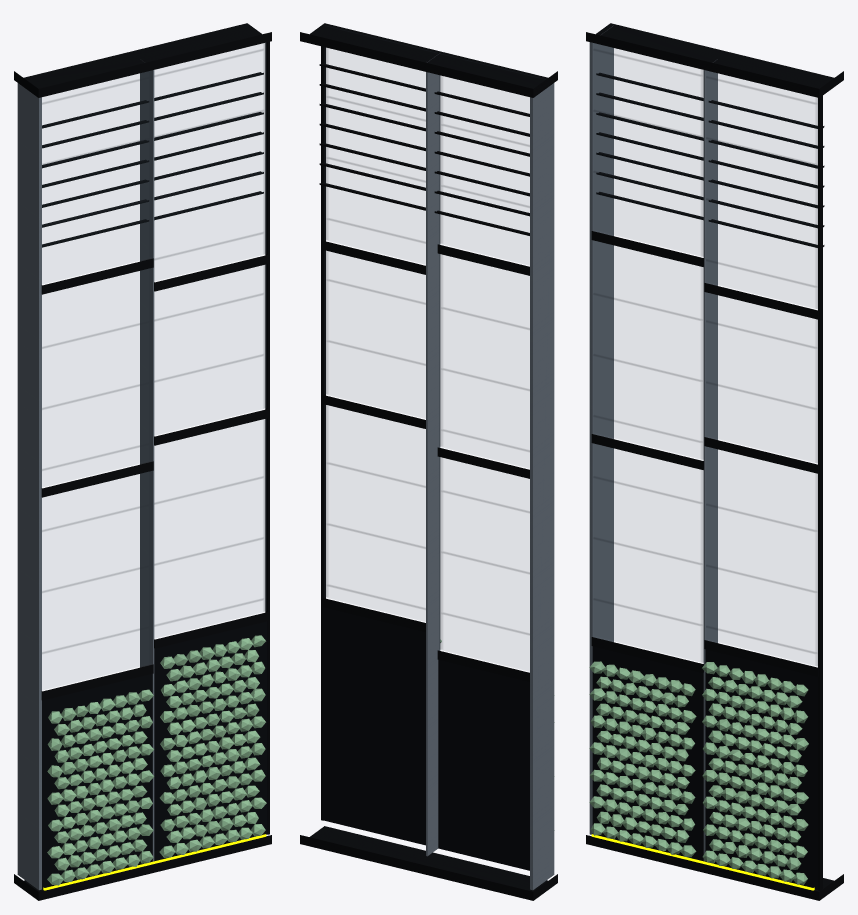
3 renders of one model, left to right at view 1: azimuth 30°, elevation 25°; view 2: azimuth 150°, elevation 25°; view 3: azimuth 330°, elevation 25°, orthographic.
Parts seen in each view (by area): view 1: Green_Wall, Fin_Plates, Spandrel_Panel, Transoms, Head_Louvres, Head_Track, End_Jamb, Sill_Track, Glass_Pane_13, Glass_Pane_11, Glass_Pane_02, Glass_Pane_01 (+3 smaller); view 2: Spandrel_Panel, Fin_Plates, Head_Track, Transoms, Sill_Track, Head_Louvres, End_Jamb, Glass_Pane_11, Glass_Pane_01, Glass_Pane_02, Glass_Pane_13, Glass_Pane_12 (+1 smaller); view 3: Green_Wall, Fin_Plates, Spandrel_Panel, Transoms, Head_Louvres, Head_Track, End_Jamb, Sill_Track, Glass_Pane_13, Glass_Pane_02, Glass_Pane_01, Glass_Pane_03 (+3 smaller).
Boxes of the visible parts, <box> form: Green_Wall: <box>47,635,266,885</box>; Fin_Plates: <box>17,59,154,890</box>; Spandrel_Panel: <box>42,621,267,889</box>; Transoms: <box>41,254,268,700</box>; Head_Louvres: <box>42,72,263,247</box>; Head_Track: <box>14,23,271,97</box>; End_Jamb: <box>265,41,269,834</box>; Sill_Track: <box>14,835,271,900</box>; Glass_Pane_13: <box>154,43,266,260</box>; Glass_Pane_11: <box>154,419,266,626</box>; Glass_Pane_02: <box>42,268,151,471</box>; Glass_Pane_01: <box>42,471,151,663</box>; Spandrel_Panel: <box>323,607,529,870</box>; Fin_Plates: <box>426,53,554,890</box>; Head_Track: <box>300,23,557,97</box>; Transoms: <box>322,241,529,681</box>; Sill_Track: <box>300,826,557,900</box>; Head_Louvres: <box>319,63,529,235</box>; End_Jamb: <box>321,25,325,820</box>; Glass_Pane_11: <box>324,405,425,610</box>; Glass_Pane_01: <box>439,457,529,649</box>; Glass_Pane_02: <box>439,254,529,452</box>; Glass_Pane_13: <box>324,47,425,243</box>; Glass_Pane_12: <box>324,251,425,394</box>; Green_Wall: <box>589,661,808,884</box>; Fin_Plates: <box>589,25,717,861</box>; Spandrel_Panel: <box>592,646,817,889</box>; Transoms: <box>591,231,818,676</box>; Head_Louvres: <box>596,72,824,247</box>; Head_Track: <box>586,23,843,97</box>; End_Jamb: <box>818,95,822,890</box>; Sill_Track: <box>586,835,843,900</box>; Glass_Pane_13: <box>706,76,817,308</box>; Glass_Pane_02: <box>593,267,703,459</box>; Glass_Pane_01: <box>593,470,703,662</box>; Glass_Pane_03: <box>593,48,703,256</box>.
Bounding box in the file's own units: 4 × 13.3 × 0.9166.
6 materials, 4 textured.
